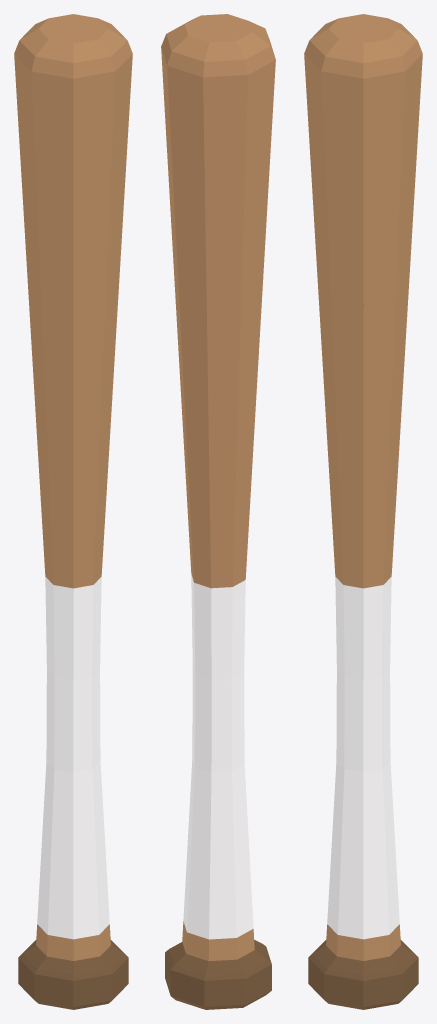
Rendered from Bate.glb.
The picture shows the model from 3 angles, left to right: view 1: azimuth 90°, elevation 25°; view 2: azimuth 210°, elevation 25°; view 3: azimuth 270°, elevation 25°; orthographic projection.
Visible parts, largest first — view 1: Cylinder; view 2: Cylinder; view 3: Cylinder.
Boxes of the visible parts, <box> form: Cylinder: <box>14,14,132,1009</box>; Cylinder: <box>161,14,275,1009</box>; Cylinder: <box>304,14,422,1009</box>.
Size of the model in its own units: 0.6095 by 5.44 by 0.6095.
Materials: 1 (1 with a texture image).
